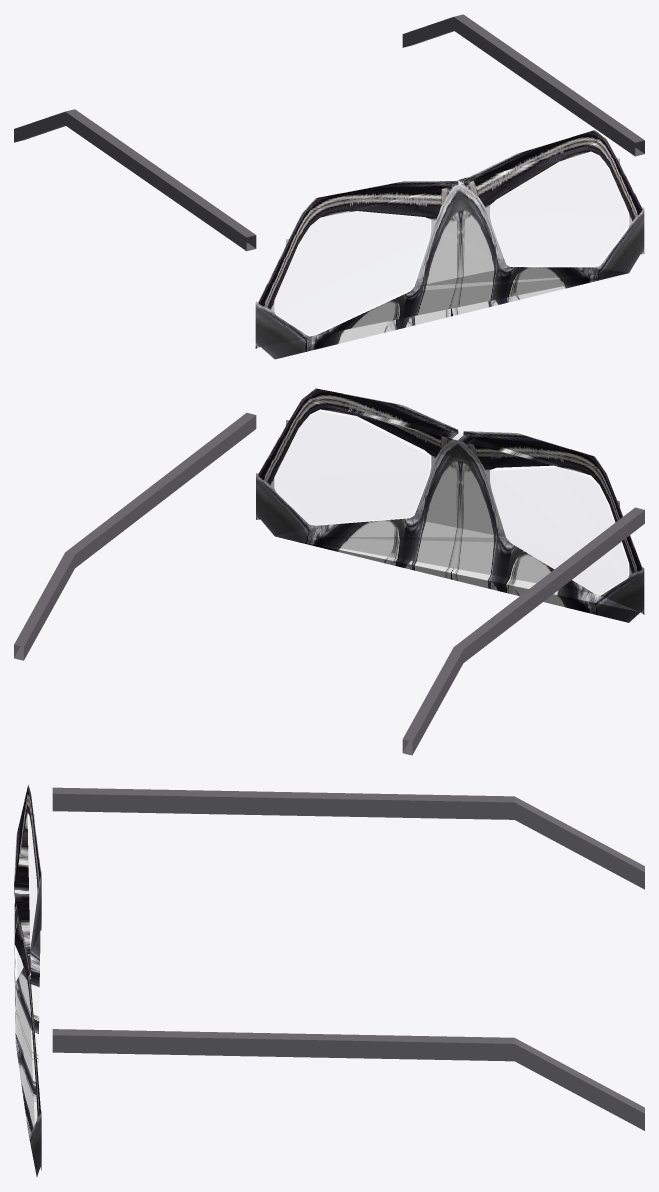
Rendered from gothamstyle-197_black-crystal.glb.
3 renders of one model, top to bottom at view 1: azimuth 30°, elevation 25°; view 2: azimuth 150°, elevation 25°; view 3: azimuth 270°, elevation 25°, orthographic. The views are drawn at different scales.
Parts seen in each view (by area): view 1: frame_front, temple_viewer_left, temple_viewer_right; view 2: frame_front, temple_viewer_left, temple_viewer_right; view 3: temple_viewer_right, temple_viewer_left, frame_front.
Part boxes in pixels (x1,y1,x2,y2): frame_front: [255, 130, 644, 359]; temple_viewer_left: [14, 109, 256, 251]; temple_viewer_right: [402, 14, 644, 156]; frame_front: [256, 388, 644, 622]; temple_viewer_left: [402, 507, 644, 755]; temple_viewer_right: [14, 412, 256, 660]; temple_viewer_right: [52, 1029, 644, 1130]; temple_viewer_left: [52, 787, 644, 889]; frame_front: [14, 784, 41, 1176].
Bounding box in the file's own units: 0.1216 × 0.0451 × 0.131.
3 materials, 2 textured.
